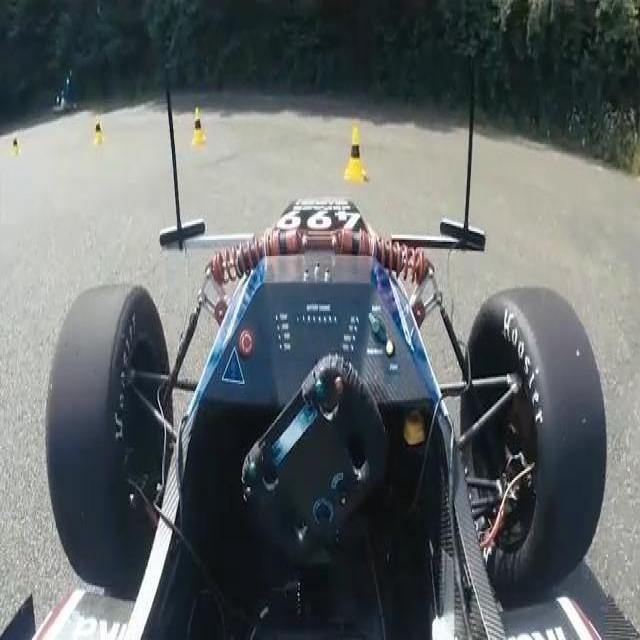yellow_cone: (344, 124, 368, 185), (191, 105, 208, 147), (93, 119, 104, 147)
